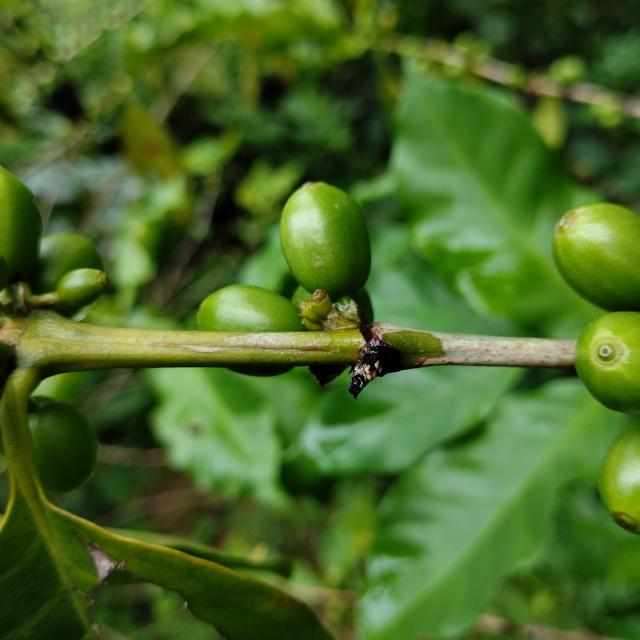green: (280, 181, 371, 300), (554, 203, 640, 311), (28, 396, 98, 493), (576, 312, 640, 414), (196, 284, 304, 332), (0, 166, 41, 281), (600, 421, 640, 535), (29, 233, 103, 294), (55, 268, 106, 308), (229, 366, 291, 377)
